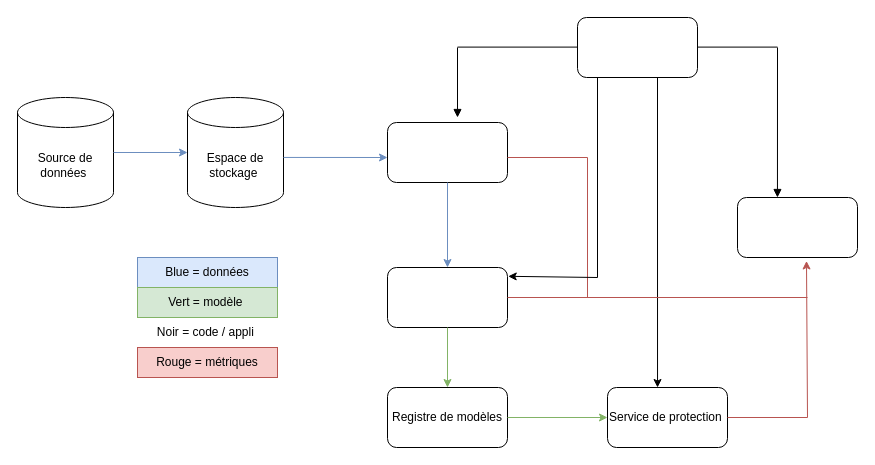
Some shapes in this 875 by 465 pixel diagram are drawn without their labels. Each missing label, with the box of its shape:
Composant de monitoring: (736, 196, 858, 258)
Composant de préparation de données: (386, 122, 508, 182)
Environnement d'entraînement: (386, 266, 508, 328)
Pipeline CI/CD: (576, 16, 698, 78)
